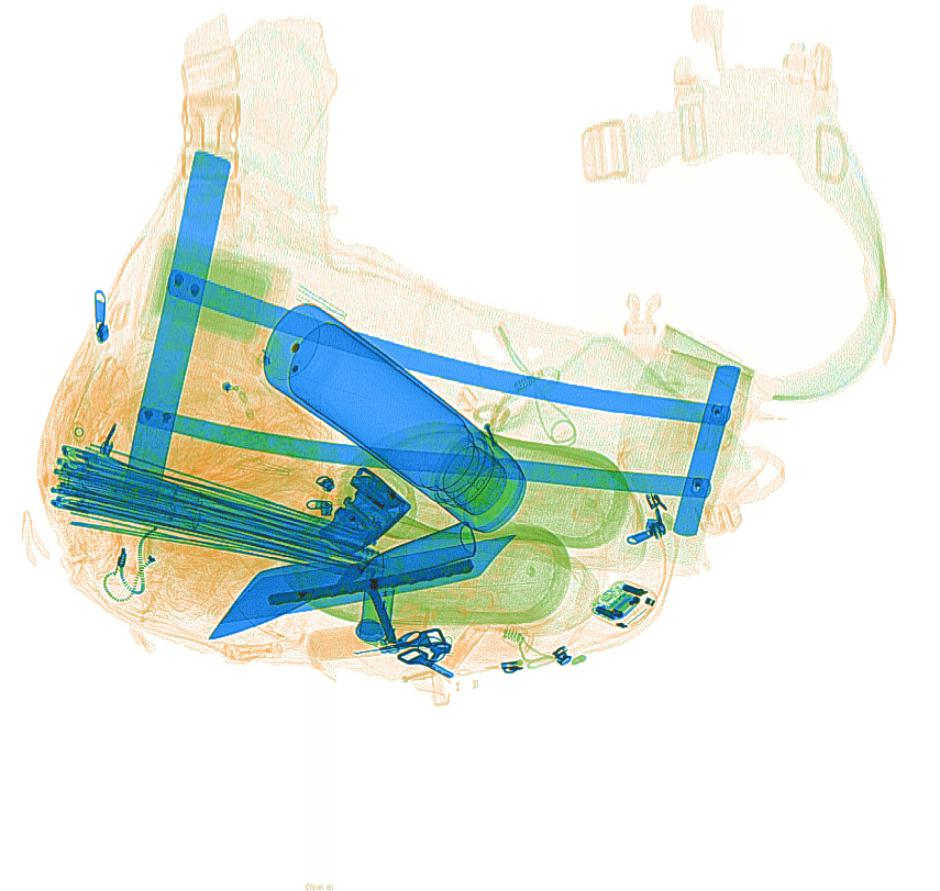lighter: (357, 544, 396, 643)
